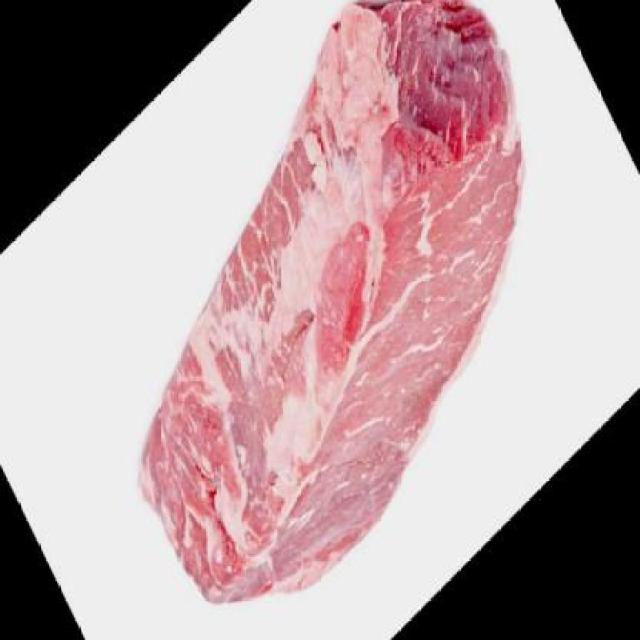beef: (126, 0, 530, 609)
